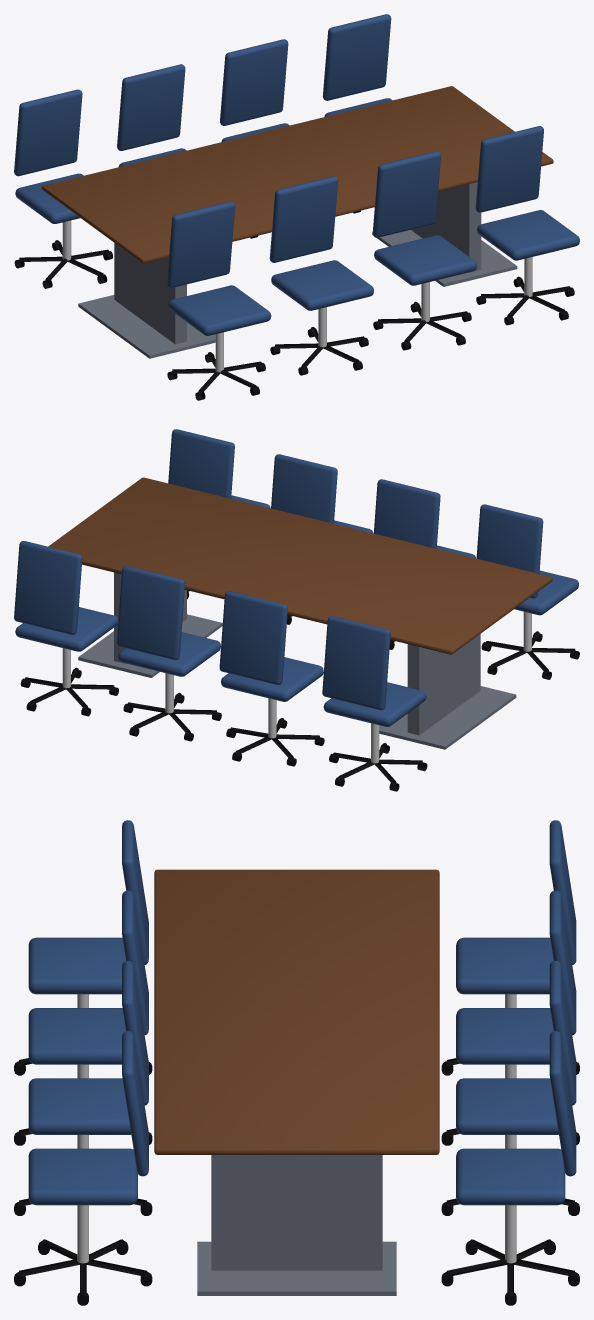
File: furniture.table.meeting_8.glb
3 views of the same model, one above another, from view 1: azimuth 30°, elevation 25°; view 2: azimuth 150°, elevation 25°; view 3: azimuth 270°, elevation 25° (orthographic). The views are drawn at different scales.
Visible parts, largest first — view 1: main__fabric_blue, main__hardwood, main__steel_painted, main__plastic_black, main__steel_stainless; view 2: main__fabric_blue, main__hardwood, main__steel_painted, main__plastic_black, main__steel_stainless; view 3: main__hardwood, main__fabric_blue, main__steel_painted, main__plastic_black, main__steel_stainless.
Part boxes in pixels (box(x1,y1,x2,y2)): main__fabric_blue: box(14, 14, 579, 335); main__hardwood: box(41, 86, 553, 263); main__steel_painted: box(78, 182, 517, 358); main__plastic_black: box(14, 210, 574, 400); main__steel_stainless: box(62, 220, 532, 372); main__fabric_blue: box(14, 429, 578, 726); main__hardwood: box(48, 477, 552, 654); main__steel_painted: box(78, 572, 516, 749); main__plastic_black: box(20, 590, 579, 791); main__steel_stainless: box(62, 611, 531, 763); main__hardwood: box(154, 869, 439, 1154); main__fabric_blue: box(28, 820, 576, 1205); main__steel_painted: box(197, 1155, 396, 1295); main__plastic_black: box(14, 1058, 579, 1305); main__steel_stainless: box(77, 994, 516, 1263).
Size of the model in its own units: 2.8 by 1.05 by 2.38.
